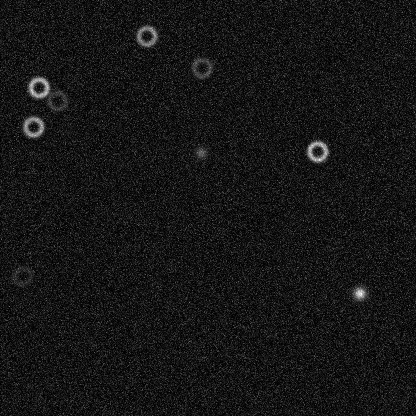Ring: (10, 264, 34, 288), (305, 139, 329, 163), (21, 114, 45, 138), (26, 75, 50, 99), (134, 23, 158, 47), (189, 55, 213, 79), (45, 88, 69, 112)
Spot: (351, 285, 367, 301), (192, 144, 208, 160)
